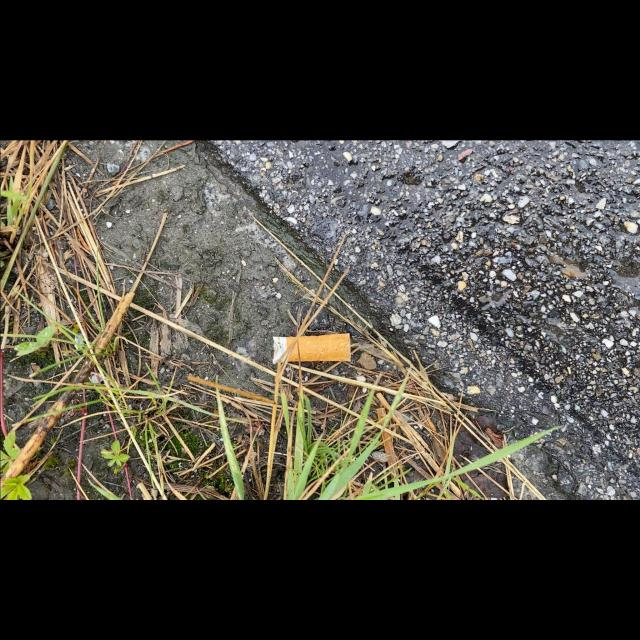cigarette: (271, 332, 351, 364)
